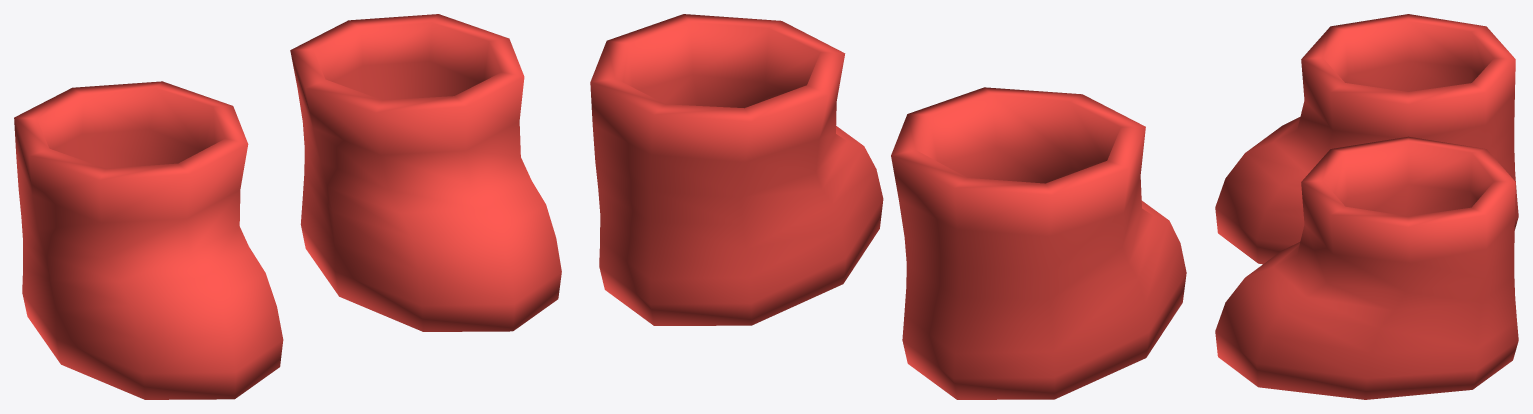
The model's file is redboots.fbx.
3 views of the same model, side by side, from view 1: azimuth 30°, elevation 25°; view 2: azimuth 150°, elevation 25°; view 3: azimuth 270°, elevation 25° (orthographic). The views are drawn at different scales.
Parts seen in each view (by area): view 1: boots; view 2: boots; view 3: boots.
Boxes of the visible parts, box(x1,y1,x2,y2) form: boots: box(14, 14, 561, 399); boots: box(590, 14, 1186, 399); boots: box(1215, 14, 1518, 399).
Bounding box in the file's own units: 23.4 × 9.36 × 14.07.
